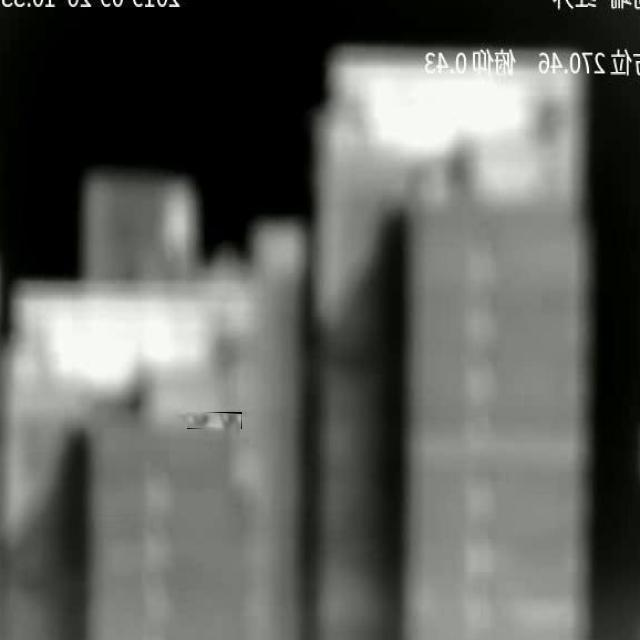drone: (187, 413, 242, 429)
